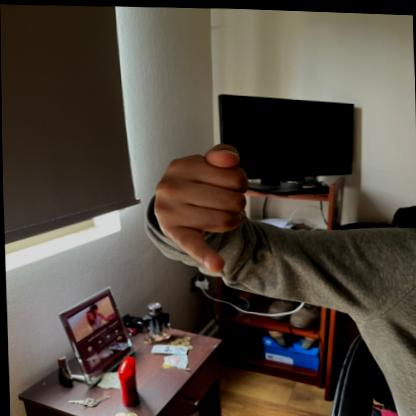Z: (142, 136, 260, 275)
